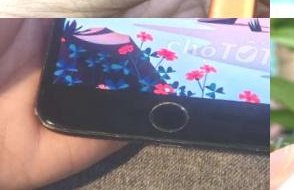scratch: (83, 120, 270, 161), (139, 92, 198, 137), (30, 105, 63, 133)
